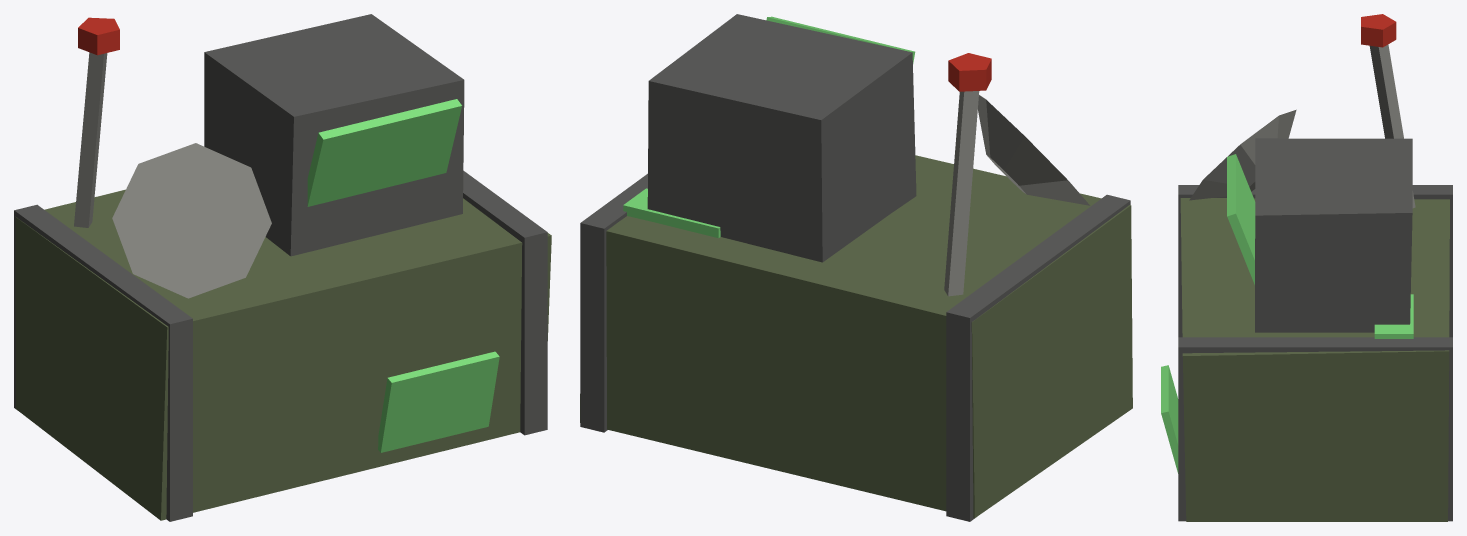
File: good_electronics.glb
3 renders of one model, left to right at view 1: azimuth 30°, elevation 25°; view 2: azimuth 150°, elevation 25°; view 3: azimuth 270°, elevation 25°, orthographic. The views are drawn at different scales.
Parts seen in each view (by area): view 1: good_electronics; view 2: good_electronics; view 3: good_electronics.
Boxes of the visible parts, x1=… form: good_electronics: x1=14, y1=14, x2=551, y2=521; good_electronics: x1=580, y1=14, x2=1132, y2=521; good_electronics: x1=1161, y1=14, x2=1452, y2=521.
Bounding box in the file's own units: 0.5058 × 0.5 × 0.3722.
